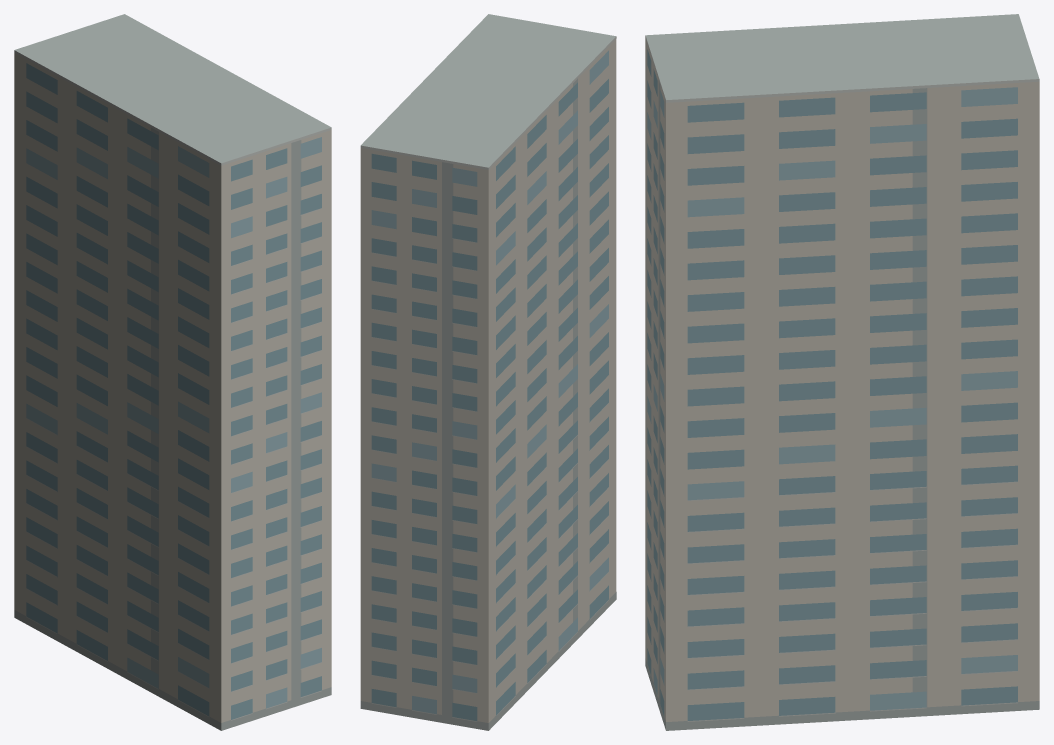
Rendered from residential-94d3cc67-3280-4533-be50-d5558124dbbc.glb.
3 views of the same model, side by side, from view 1: azimuth 30°, elevation 25°; view 2: azimuth 150°, elevation 25°; view 3: azimuth 270°, elevation 25° (orthographic). The views are drawn at different scales.
Visible parts, largest first — view 1: residential-94d3cc67-3280-4533-be50-d5558124dbbc.tmp; view 2: residential-94d3cc67-3280-4533-be50-d5558124dbbc.tmp; view 3: residential-94d3cc67-3280-4533-be50-d5558124dbbc.tmp.
Part boxes in pixels (<box>): residential-94d3cc67-3280-4533-be50-d5558124dbbc.tmp: <box>14,14,331,730</box>; residential-94d3cc67-3280-4533-be50-d5558124dbbc.tmp: <box>360,14,616,730</box>; residential-94d3cc67-3280-4533-be50-d5558124dbbc.tmp: <box>645,14,1039,730</box>.
Size of the model in its own units: 16.42 by 56 by 31.72.
